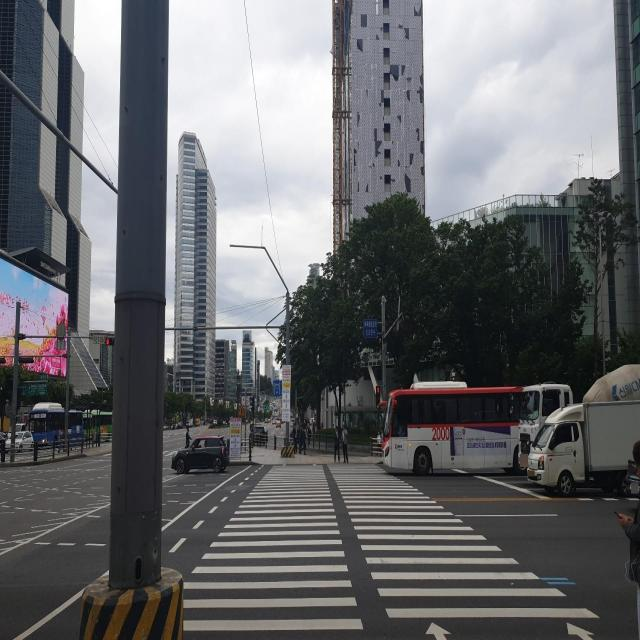빨간불: (375, 384, 381, 406)
횡단보도: (182, 463, 600, 640)
